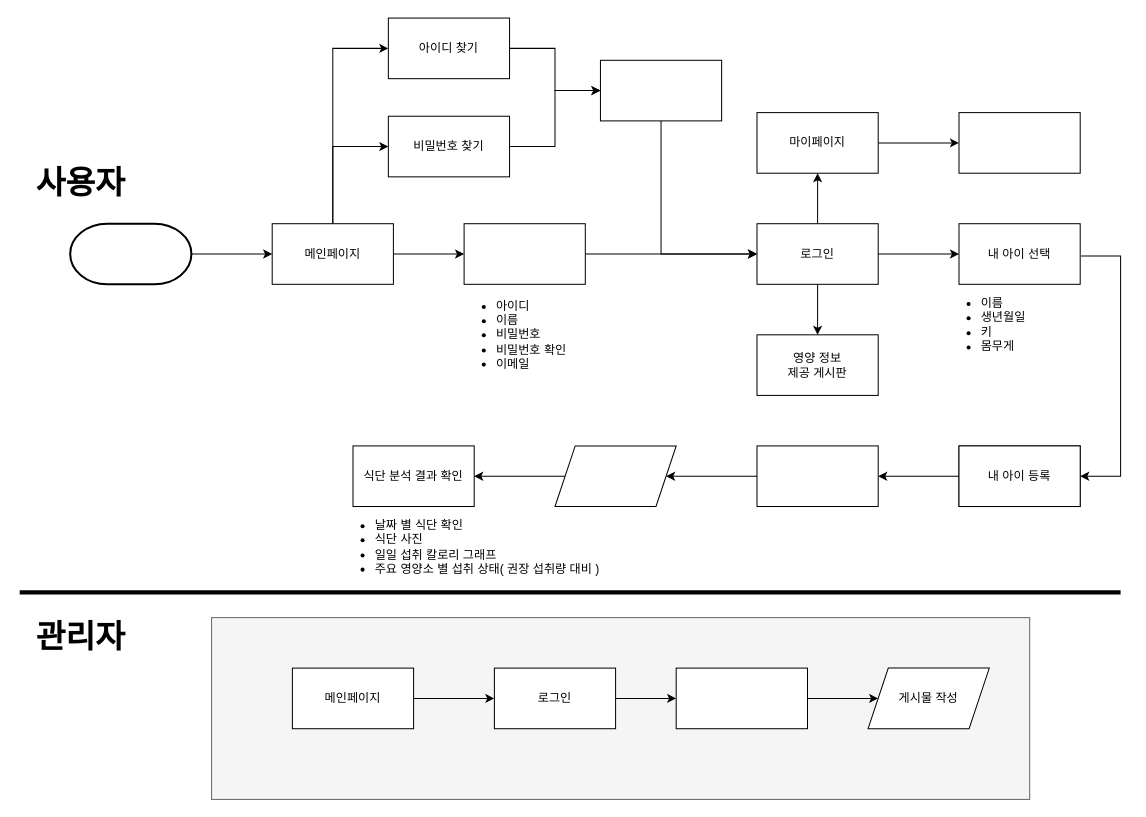
The diagram is 1146 pixels wide and 817 high, and some of its shapes have lost their labels. The box of each missing label's shape, as (x1, y1, x2, y2) in pixels:
Mealkid 메인 기능 페이지: (756, 445, 878, 507)
사진 업로드 혹은 직접 입력: (554, 445, 676, 507)
영양 정보 게시판: (675, 667, 807, 729)
웹 페이지 접속: (69, 222, 192, 285)
이메일 확인: (599, 59, 722, 121)
회원가입 신청: (463, 223, 585, 284)
회원정보수정/탈퇴: (958, 112, 1080, 173)
